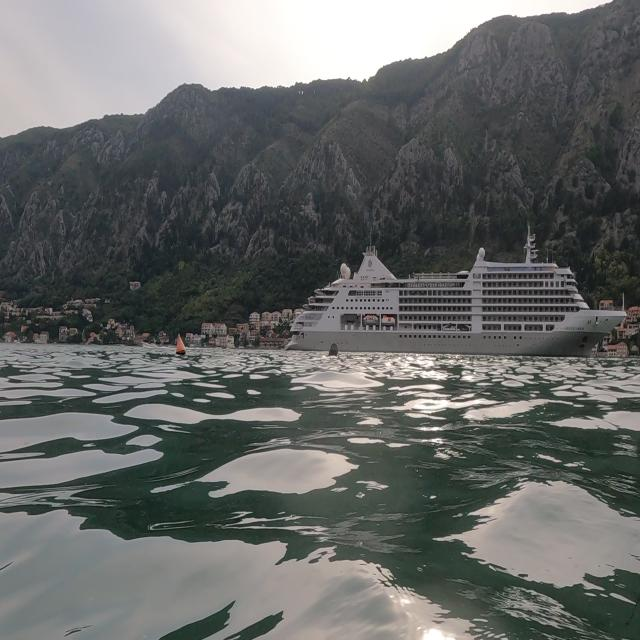boat: (284, 220, 628, 359)
buoy: (168, 326, 190, 364), (324, 340, 343, 363)
